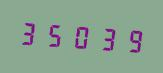five: (43, 17, 67, 51)
nine: (118, 22, 142, 57)
three: (18, 15, 42, 50), (93, 20, 117, 55)
zero: (68, 19, 92, 53)
